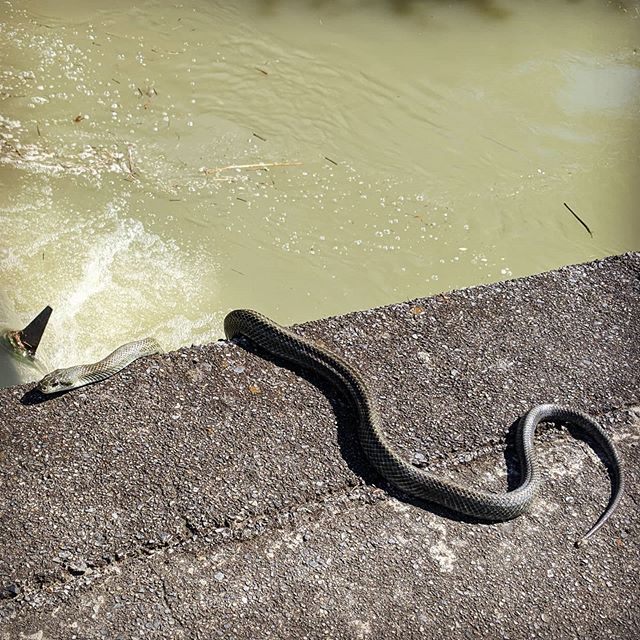animal: (14, 280, 621, 561)
river: (16, 1, 635, 311)
